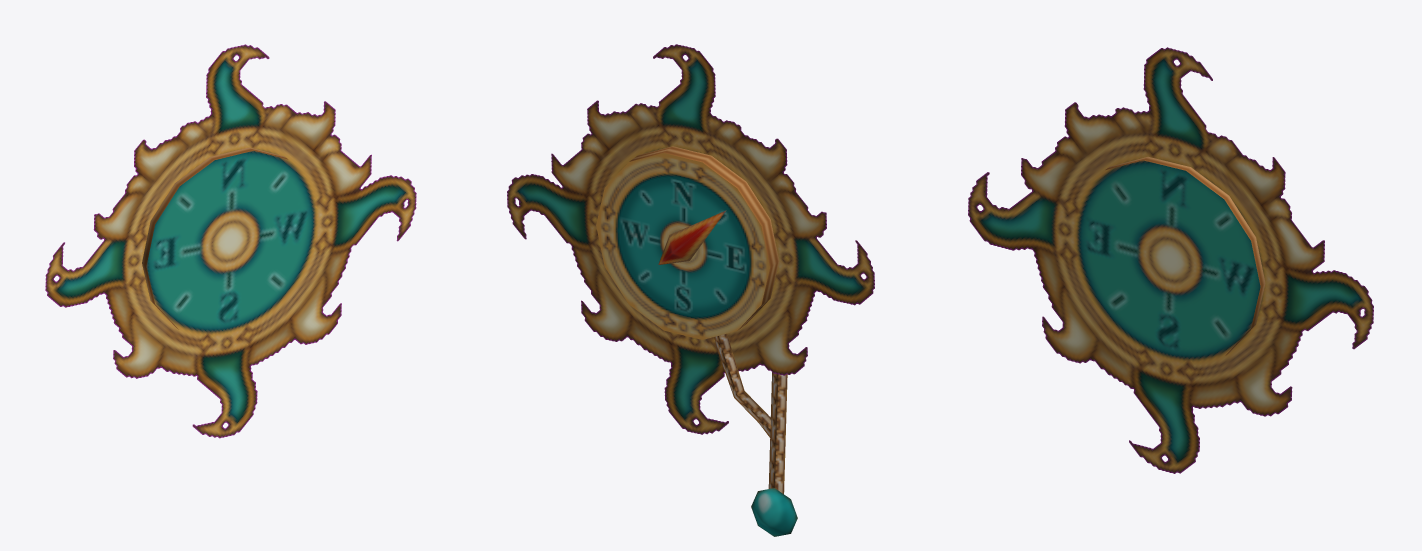
The model's file is a_SCgen21.glb.
3 renders of one model, left to right at view 1: azimuth 30°, elevation 25°; view 2: azimuth 150°, elevation 25°; view 3: azimuth 330°, elevation 25°, orthographic. The views are drawn at different scales.
Visible parts, largest first — view 1: a_SCgen21; view 2: a_SCgen21; view 3: a_SCgen21.
Boxes of the visible parts, box(x1,y1,x2,y2) form: a_SCgen21: box(45, 44, 416, 438); a_SCgen21: box(507, 44, 874, 536); a_SCgen21: box(968, 47, 1373, 473).
Bounding box in the file's own units: 1.5 × 1.67 × 0.1311.
2 materials, 2 textured.
